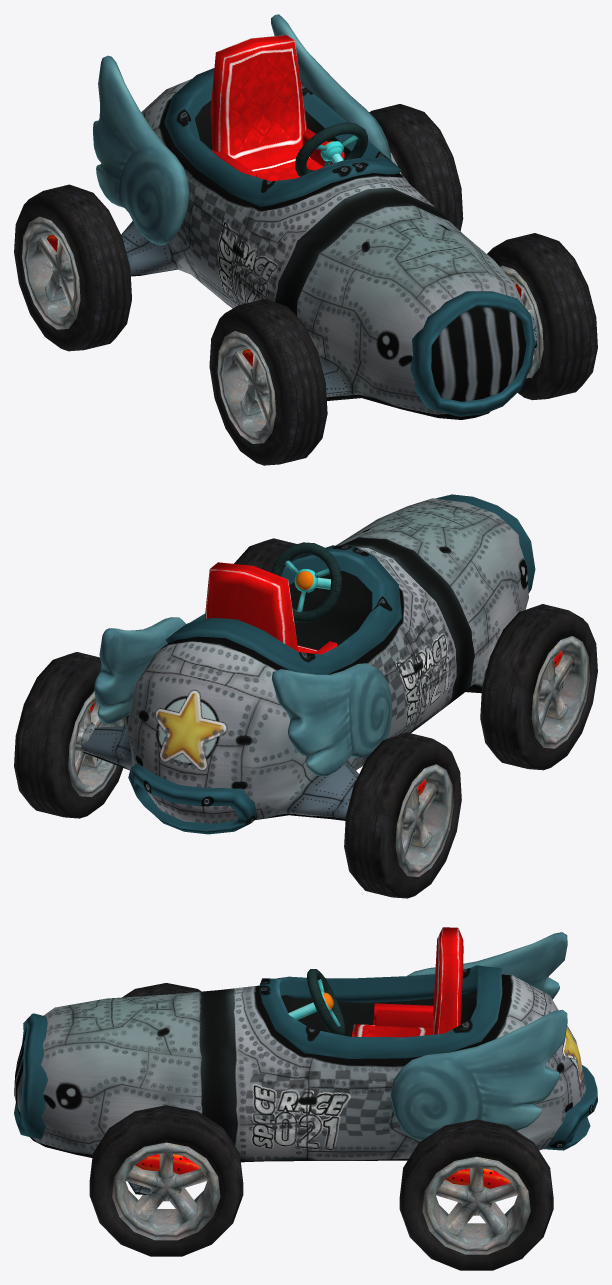
Rendered from LCRG Kart 05.fbx.
3 views of the same model, one above another, from view 1: azimuth 30°, elevation 25°; view 2: azimuth 150°, elevation 25°; view 3: azimuth 270°, elevation 25° (orthographic). The views are drawn at different scales.
Parts seen in each view (by area): view 1: LCRG_Kart_05, Wheel_FL__3_, Wheel_FL__4_, Kart_01sit__1_, Wheel_FL__1_, Wheel_FL__2_, Stearing_Wheel__1_; view 2: LCRG_Kart_05, Wheel_FL__3_, Wheel_FL__4_, Wheel_FL__2_, Kart_01sit__1_, Stearing_Wheel__1_, Wheel_FL__1_; view 3: LCRG_Kart_05, Wheel_FL__2_, Wheel_FL__1_, Kart_01sit__1_, Stearing_Wheel__1_, Break_FL__2_, Break_FL__1_, Wheel_FL__4_.
Part boxes in pixels (x1=…): LCRG_Kart_05: x1=93, y1=14, x2=536, y2=419; Wheel_FL__3_: x1=14, y1=184, x2=131, y2=351; Wheel_FL__4_: x1=209, y1=299, x2=327, y2=465; Kart_01sit__1_: x1=210, y1=35, x2=344, y2=181; Wheel_FL__1_: x1=487, y1=233, x2=597, y2=400; Wheel_FL__2_: x1=369, y1=104, x2=463, y2=230; Stearing_Wheel__1_: x1=295, y1=122, x2=368, y2=176; LCRG_Kart_05: x1=82, y1=494, x2=563, y2=834; Wheel_FL__3_: x1=344, y1=732, x2=461, y2=898; Wheel_FL__4_: x1=480, y1=604, x2=597, y2=770; Wheel_FL__2_: x1=14, y1=652, x2=129, y2=818; Kart_01sit__1_: x1=204, y1=562, x2=337, y2=654; Stearing_Wheel__1_: x1=271, y1=542, x2=342, y2=622; Wheel_FL__1_: x1=234, y1=538, x2=306, y2=572; LCRG_Kart_05: x1=14, y1=932, x2=597, y2=1195; Wheel_FL__2_: x1=399, y1=1119, x2=553, y2=1270; Wheel_FL__1_: x1=89, y1=1105, x2=243, y2=1256; Kart_01sit__1_: x1=352, y1=927, x2=463, y2=1037; Stearing_Wheel__1_: x1=288, y1=969, x2=345, y2=1035; Break_FL__2_: x1=445, y1=1168, x2=510, y2=1188; Break_FL__1_: x1=135, y1=1154, x2=199, y2=1174; Wheel_FL__4_: x1=122, y1=983, x2=201, y2=997.
Bounding box in the file's own units: 212 × 145 × 305.
